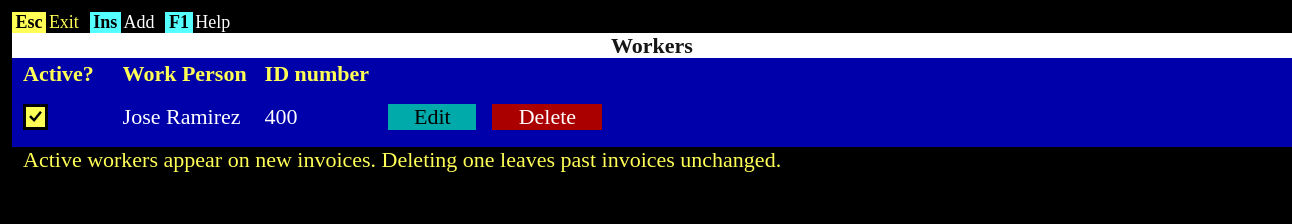
Test: WorkersScreen › edits a person from the Edit button and keeps the ID unique
Click the button with aria-label "Edit Jose Ramirez" at (432, 117), box [388, 104, 476, 130]
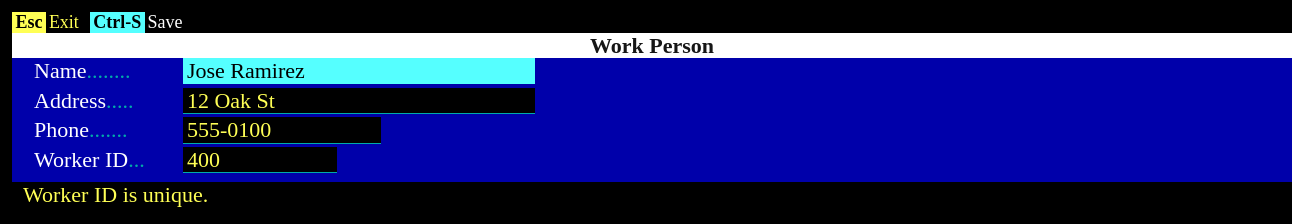
Now the field labelled "Name" holds "Jose Ramirez"
Now the field labelled "Address" holds "12 Oak St", box [182, 88, 534, 114]
Now the field labelled "Phone" holds "555-0100", box [182, 117, 380, 144]
Replace the text in the field labelled "Name" with "Ana C. Cruz" at (358, 71), box [182, 58, 534, 84]
Replace the text in the field labelled "Worker ID" with "16" at (260, 160), box [182, 147, 336, 173]
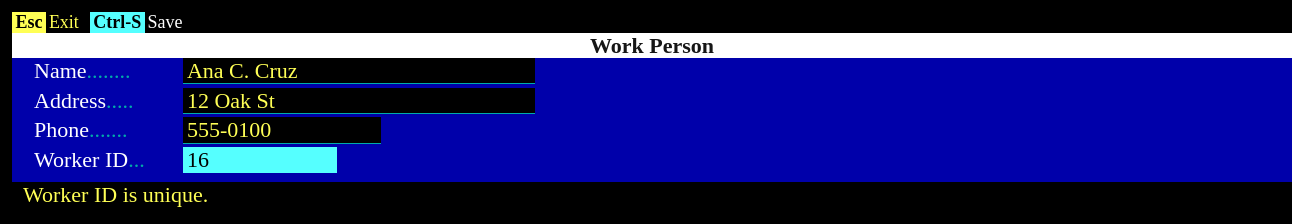
Click the button "Ctrl-S Save" at (142, 22), box [90, 12, 193, 33]
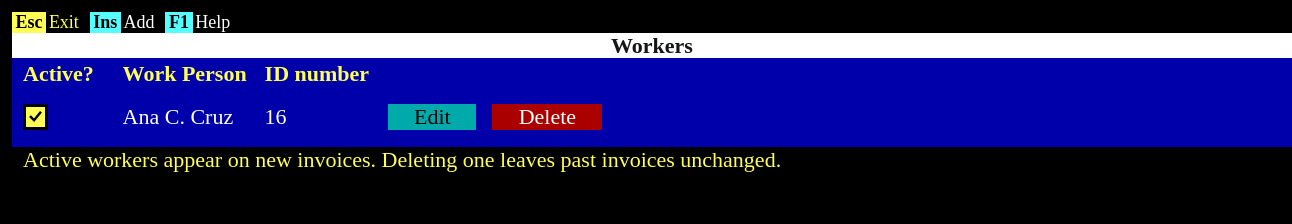
Now the text named "Worker name 1" reads "Ana C. Cruz", box [123, 104, 233, 129]
Now the text named "Worker number 1" reads "16", box [265, 104, 287, 129]
Click the button "Ins Add" at (128, 22), box [90, 12, 165, 33]
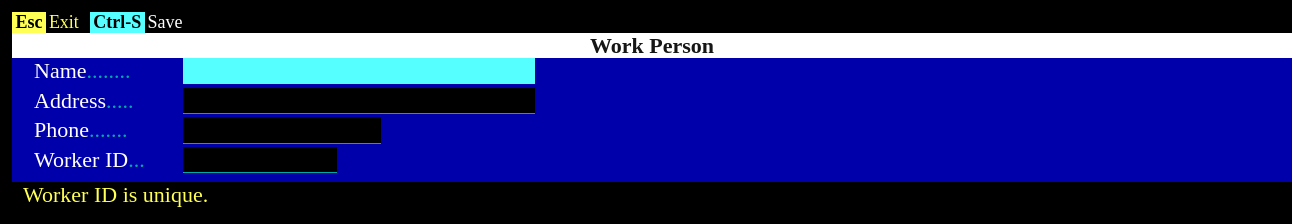
Type "Pat Lee" into the field labelled "Name" at (358, 71), box [182, 58, 534, 84]
Type "16" into the field labelled "Worker ID" at (260, 160), box [182, 147, 336, 173]
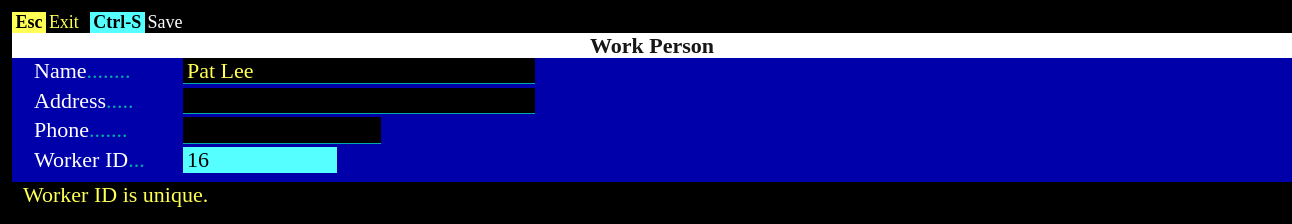
Click the button "Ctrl-S Save" at (142, 22), box [90, 12, 193, 33]
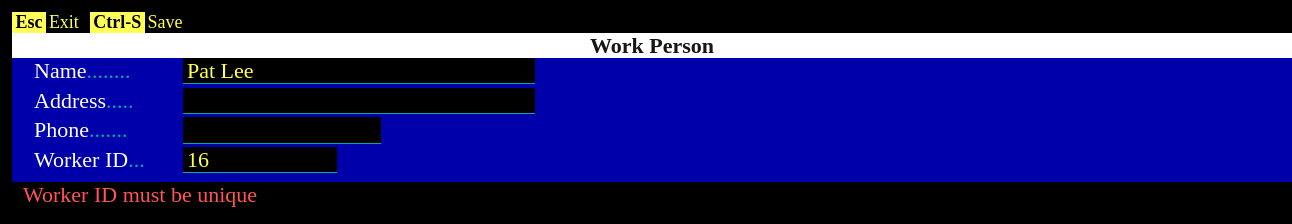
Now the text "Worker ID must be unique" is shown, box [12, 182, 1291, 208]
